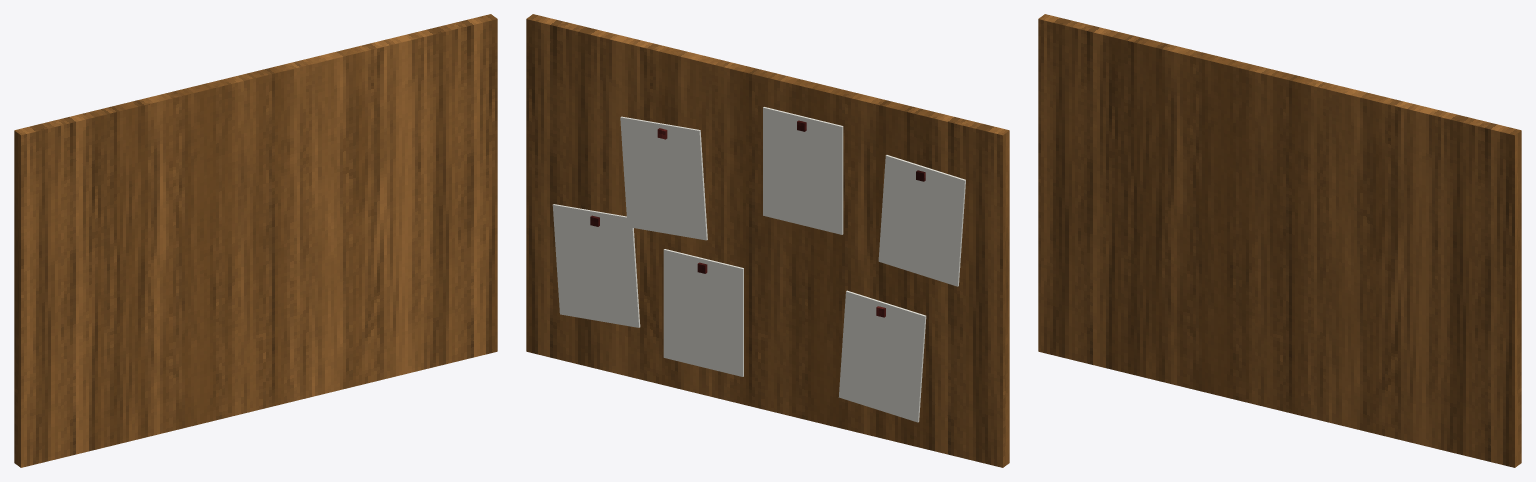
Rendered from notice_board.glb.
3 views of the same model, side by side, from view 1: azimuth 30°, elevation 25°; view 2: azimuth 150°, elevation 25°; view 3: azimuth 330°, elevation 25° (orthographic).
Parts seen in each view (by area): view 1: notice_board; view 2: notice_board; view 3: notice_board.
Part boxes in pixels (x1,y1,x2,y2): notice_board: (14,14,497,467); notice_board: (526,14,1009,467); notice_board: (1038,14,1521,467).
Bounding box in the file's own units: 1.2 × 0.8 × 0.045.
Materials: 3 (2 with a texture image).
